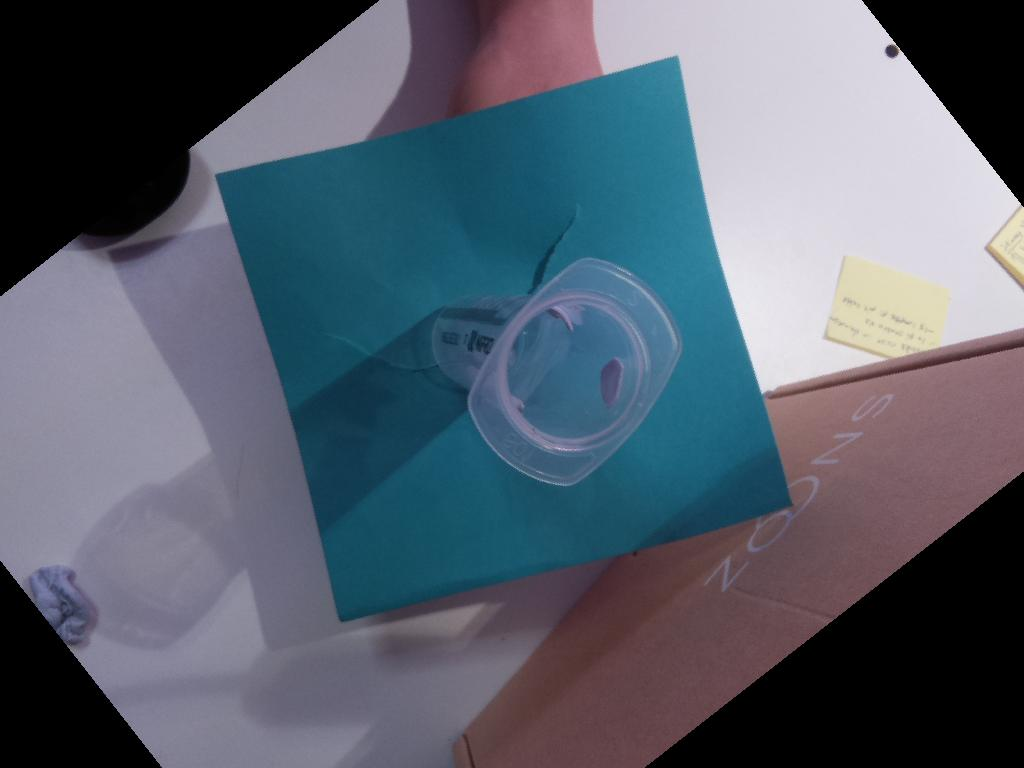dirty: (468, 257, 682, 486)
